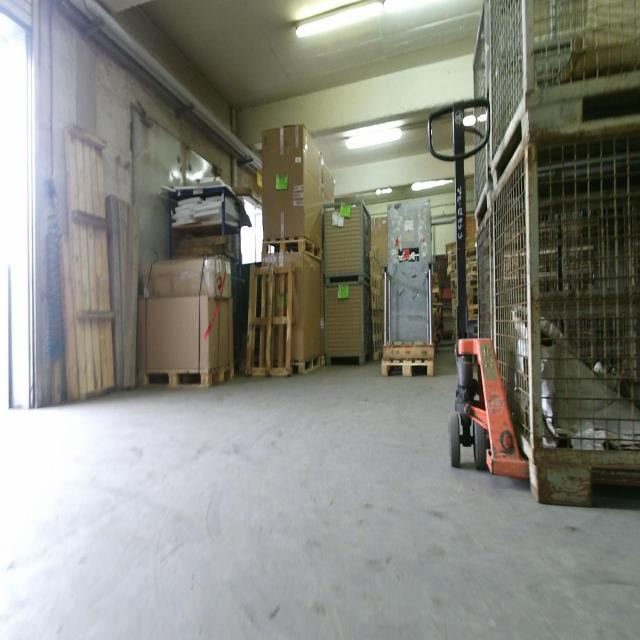pallet: (245, 262, 296, 375), (137, 358, 235, 390), (262, 229, 325, 264), (380, 354, 436, 379), (287, 352, 322, 379)
pallet_truck: (421, 81, 538, 492)
stillage: (490, 108, 639, 506), (490, 0, 639, 189), (470, 3, 492, 233), (321, 198, 375, 288), (320, 278, 373, 368), (471, 198, 500, 349)
